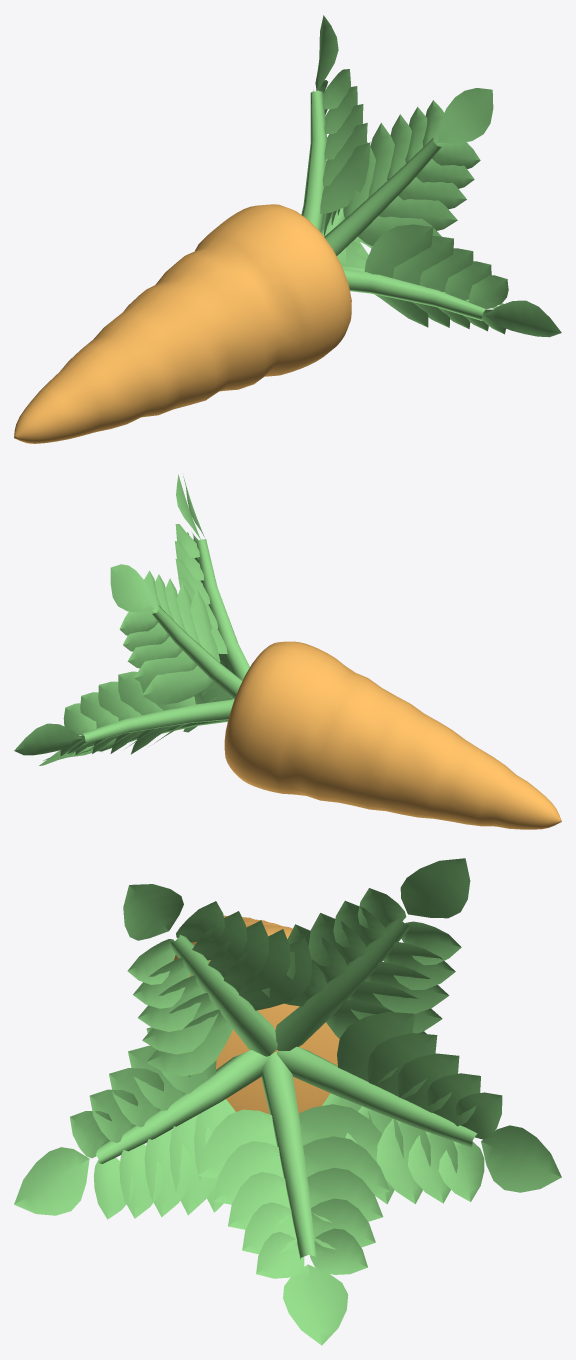
The model's file is VeggieCarrot.glb.
3 views of the same model, one above another, from view 1: azimuth 30°, elevation 25°; view 2: azimuth 150°, elevation 25°; view 3: azimuth 270°, elevation 25° (orthographic). The views are drawn at different scales.
Visible parts, largest first — view 1: CarrotRoot, CarrotLeaves; view 2: CarrotRoot, CarrotLeaves; view 3: CarrotLeaves, CarrotRoot.
Boxes of the visible parts, x1=… form: CarrotRoot: x1=14, y1=204, x2=351, y2=443; CarrotLeaves: x1=301, y1=15, x2=561, y2=337; CarrotRoot: x1=224, y1=641, x2=561, y2=829; CarrotLeaves: x1=14, y1=474, x2=249, y2=765; CarrotLeaves: x1=14, y1=858, x2=561, y2=1345; CarrotRoot: x1=174, y1=915, x2=339, y2=1114.
Size of the model in its own units: 3.85 by 2.02 by 2.5.
